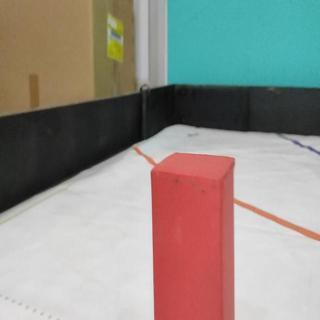redbox: (151, 152, 234, 320)
